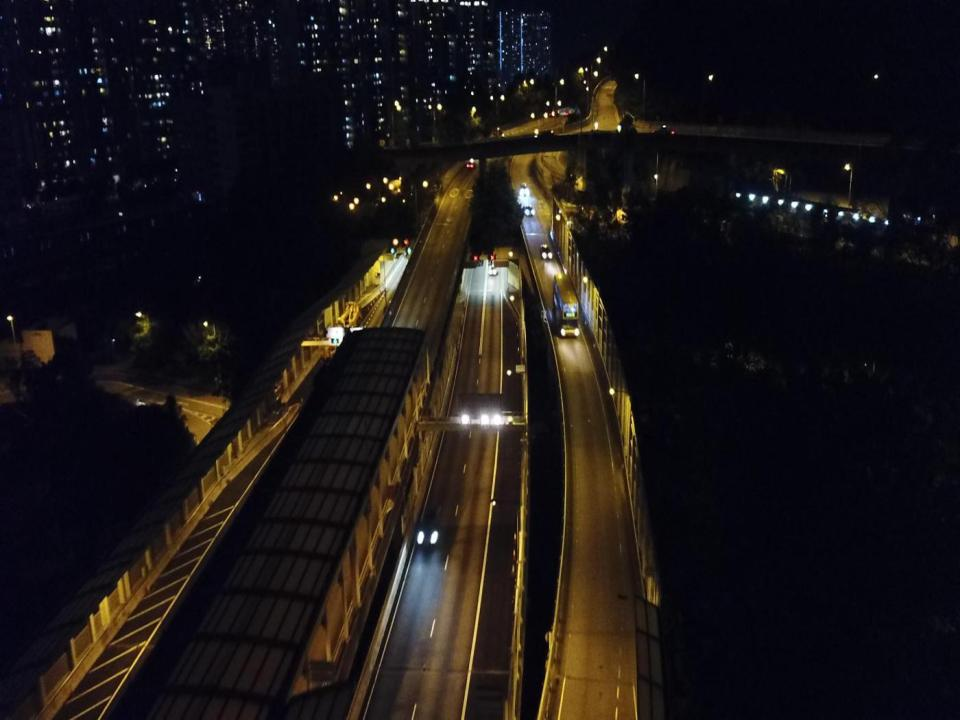bus: (552, 274, 580, 338)
car: (416, 503, 442, 549), (539, 243, 554, 260), (521, 203, 536, 216), (519, 181, 530, 196), (465, 160, 476, 169)
